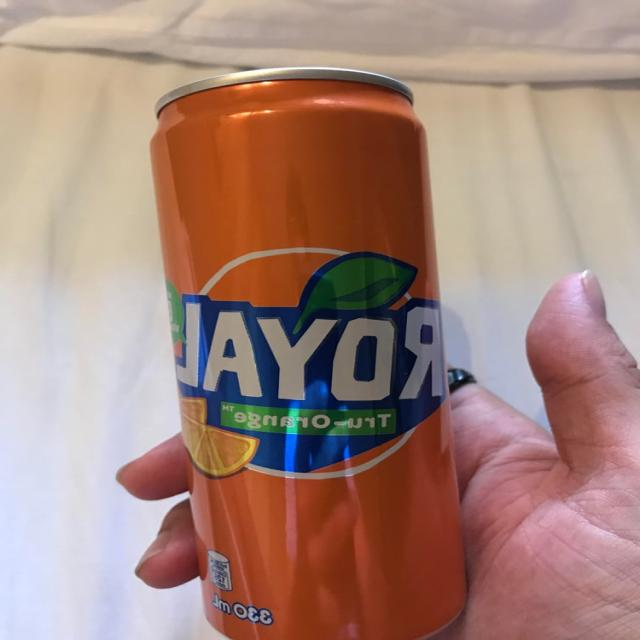fanta: (164, 62, 458, 640)
